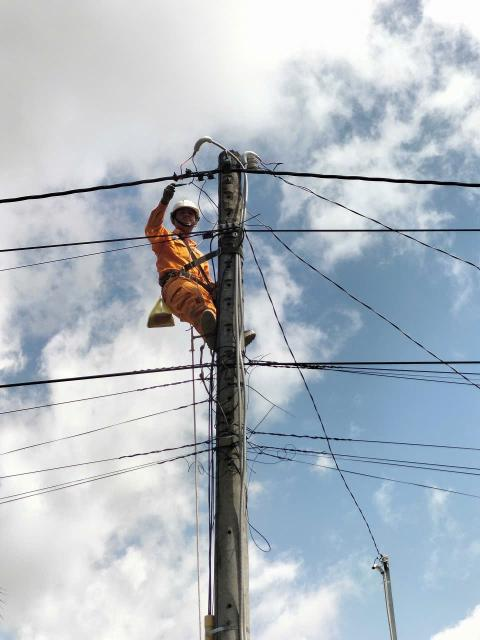gloves: (148, 177, 177, 207)
harness: (140, 267, 217, 294)
helmet: (172, 197, 207, 218)
shoes: (188, 310, 234, 353), (236, 328, 264, 349)
